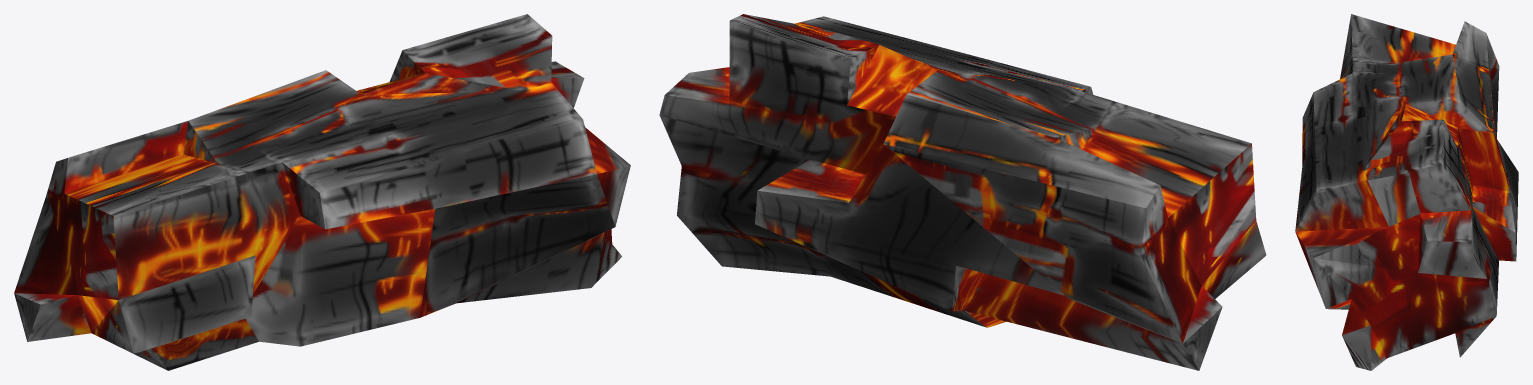
Rendered from obj_resource_ember_lod1.fbx.
3 views of the same model, side by side, from view 1: azimuth 30°, elevation 25°; view 2: azimuth 150°, elevation 25°; view 3: azimuth 270°, elevation 25° (orthographic). The views are drawn at different scales.
Visible parts, largest first — view 1: obj_resource_ember1; view 2: obj_resource_ember1; view 3: obj_resource_ember1.
Boxes of the visible parts, x1,y1,x2,y2 form: obj_resource_ember1: (14, 14, 630, 370); obj_resource_ember1: (659, 14, 1266, 370); obj_resource_ember1: (1295, 14, 1518, 370).
Bounding box in the file's own units: 4.49 × 1.89 × 1.93.
1 material, 1 textured.
